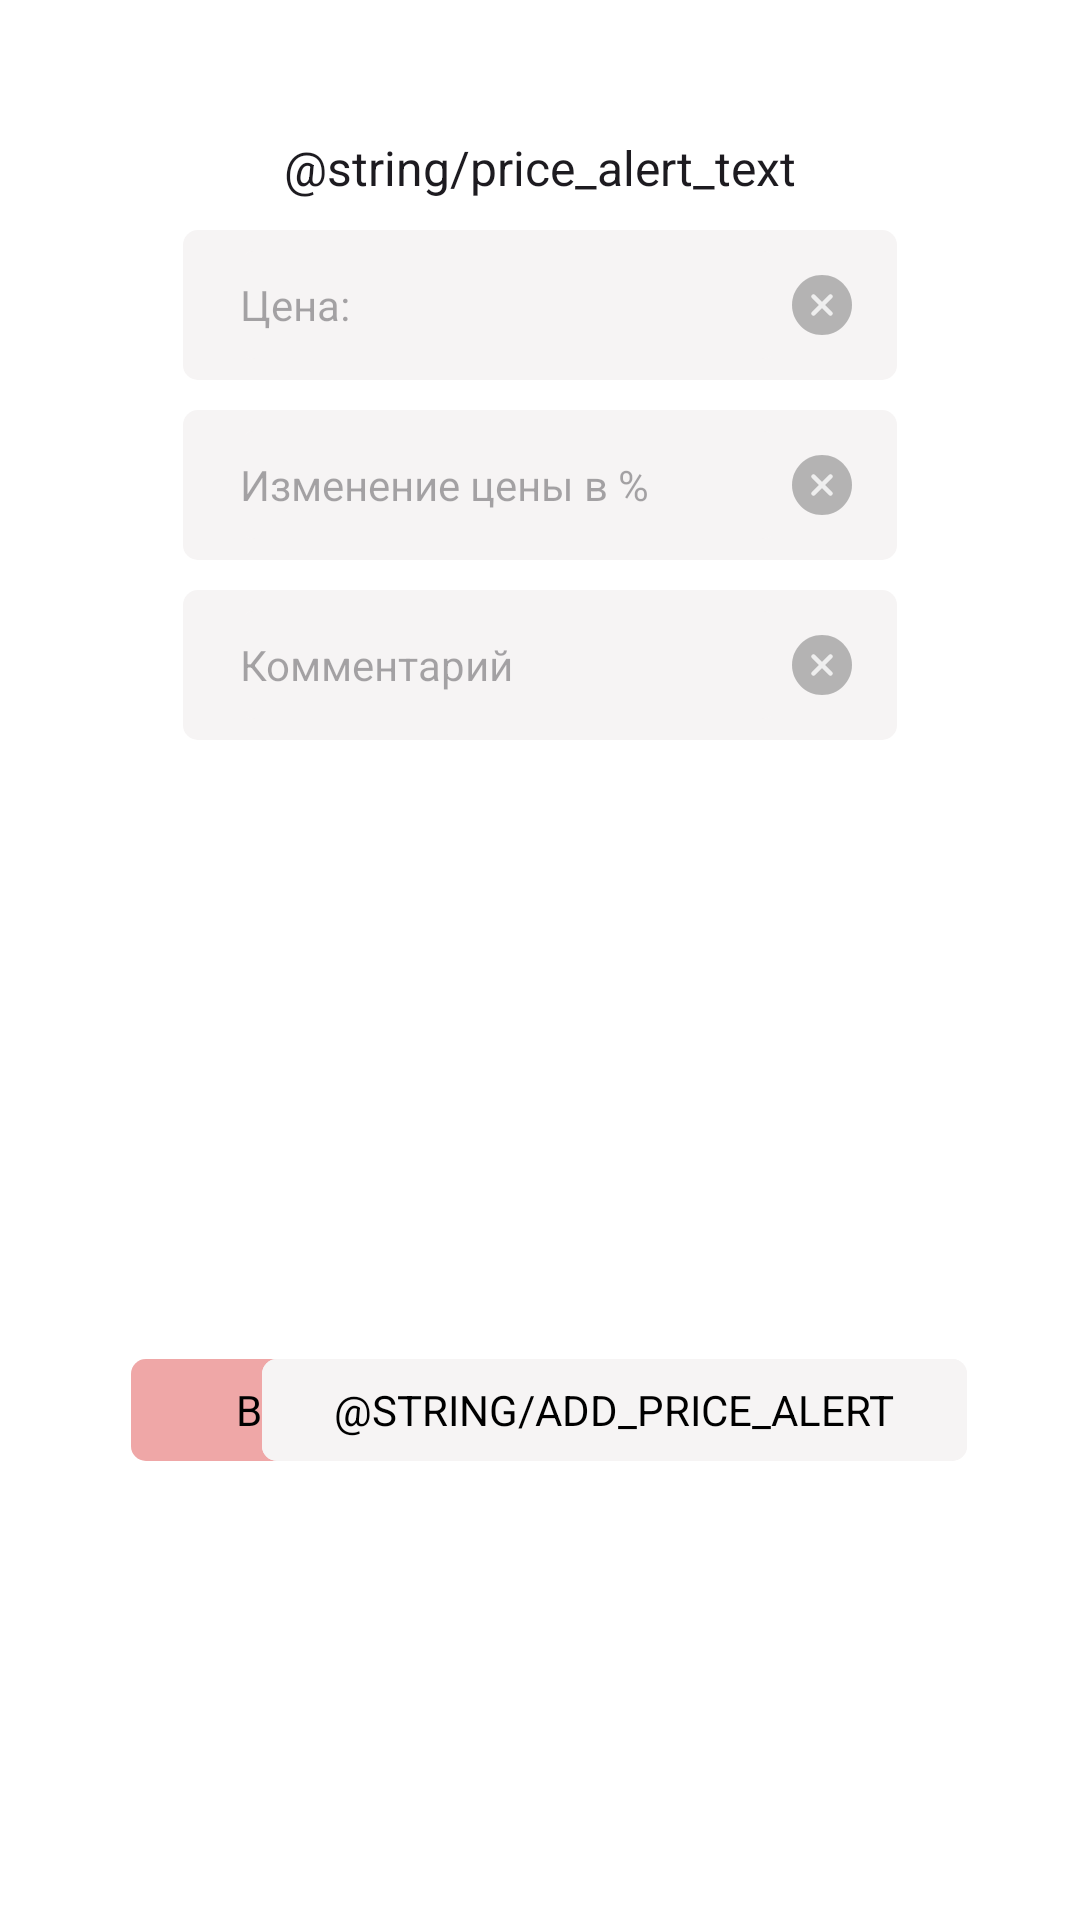

Point at icon controls on the screen. Image size 1080 × 1920, points as [x,y].
circle close: [822,305], [822,485], [822,665]
